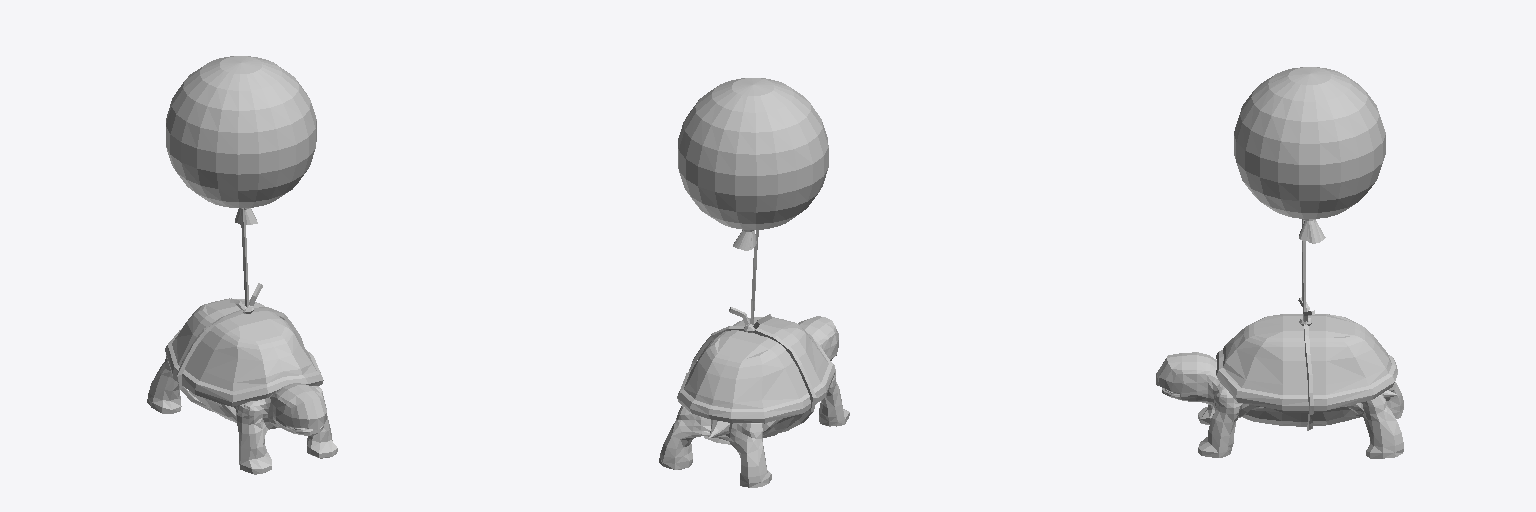
File: Turtle_Group.obj
The picture shows the model from 3 angles: view 1: azimuth 30°, elevation 25°; view 2: azimuth 150°, elevation 25°; view 3: azimuth 270°, elevation 25°; orthographic projection.
Parts seen in each view (by area): view 1: Turtle_body, Balloon; view 2: Turtle_body, Balloon; view 3: Turtle_body, Balloon.
Boxes of the visible parts, <box> form: Turtle_body: <box>147,283,337,474</box>; Balloon: <box>166,56,316,224</box>; Turtle_body: <box>659,307,849,487</box>; Balloon: <box>678,78,828,250</box>; Turtle_body: <box>1156,297,1403,458</box>; Balloon: <box>1234,67,1385,243</box>.
Size of the model in its own units: 0.0232 by 0.0618 by 0.0382.